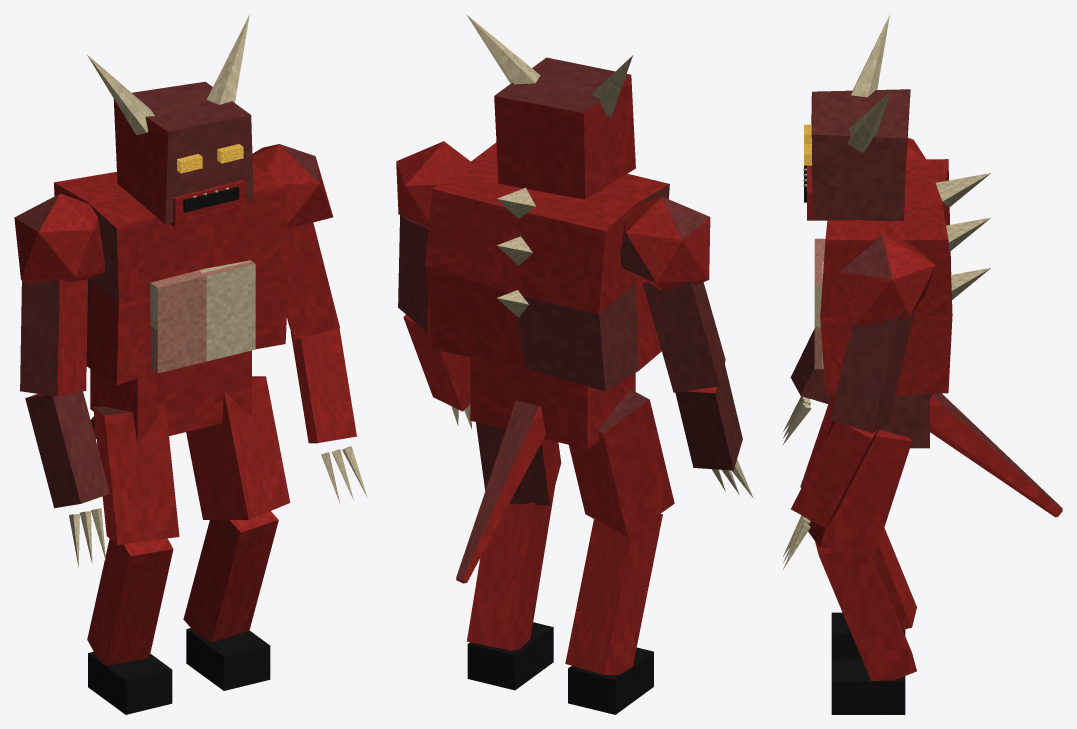
The model's file is enemy_demon.glb.
3 views of the same model, side by side, from view 1: azimuth 30°, elevation 25°; view 2: azimuth 150°, elevation 25°; view 3: azimuth 270°, elevation 25° (orthographic). The views are drawn at different scales.
Visible parts, largest first — view 1: enemy_demon; view 2: enemy_demon; view 3: enemy_demon.
Boxes of the visible parts, x1,y1,x2,y2 form: enemy_demon: [14, 14, 367, 714]; enemy_demon: [396, 14, 753, 714]; enemy_demon: [782, 14, 1062, 714].
Bounding box in the file's own units: 1.16 × 2.25 × 0.9107.
Materials: 2 (2 with a texture image).
